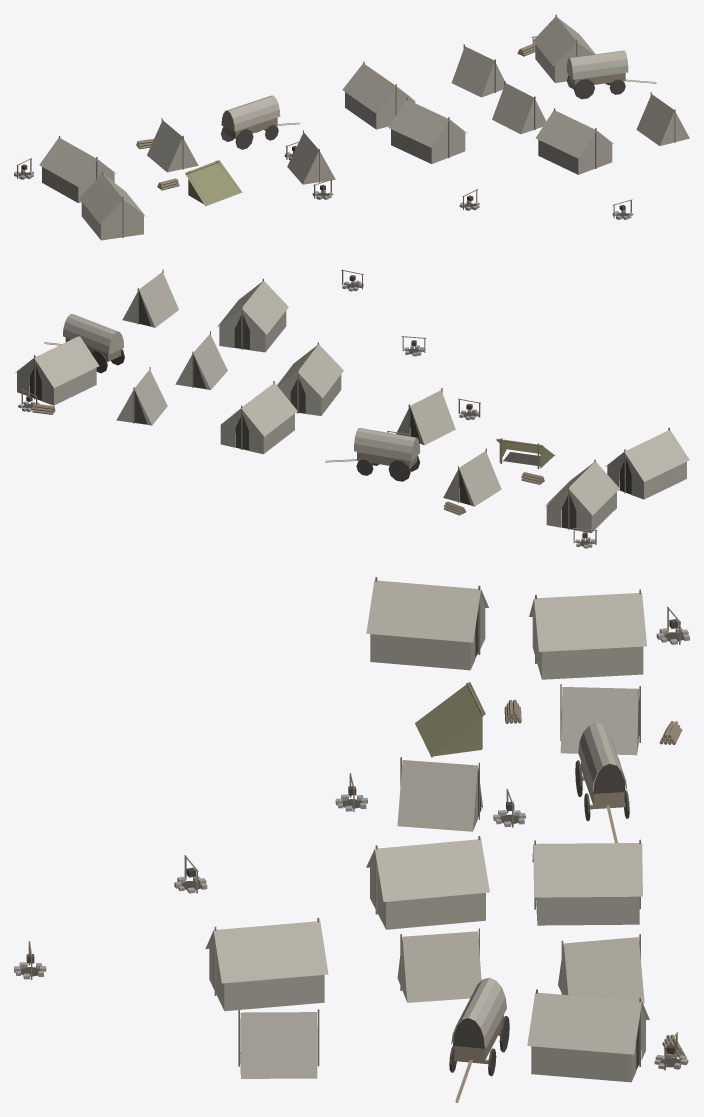
Rendered from emigrant_camp_shore__camp_1835.glb.
3 views of the same model, one above another, from view 1: azimuth 30°, elevation 25°; view 2: azimuth 150°, elevation 25°; view 3: azimuth 270°, elevation 25° (orthographic). The views are drawn at different scales.
Visible parts, largest first — view 1: emigrant_camp_shore__camp_1835; view 2: emigrant_camp_shore__camp_1835; view 3: emigrant_camp_shore__camp_1835.
Boxes of the visible parts, box(x1,y1,x2,y2) form: emigrant_camp_shore__camp_1835: box(14, 14, 689, 240); emigrant_camp_shore__camp_1835: box(15, 269, 689, 548); emigrant_camp_shore__camp_1835: box(14, 577, 689, 1102).
Size of the model in its own units: 40.3 by 2.71 by 24.21.
